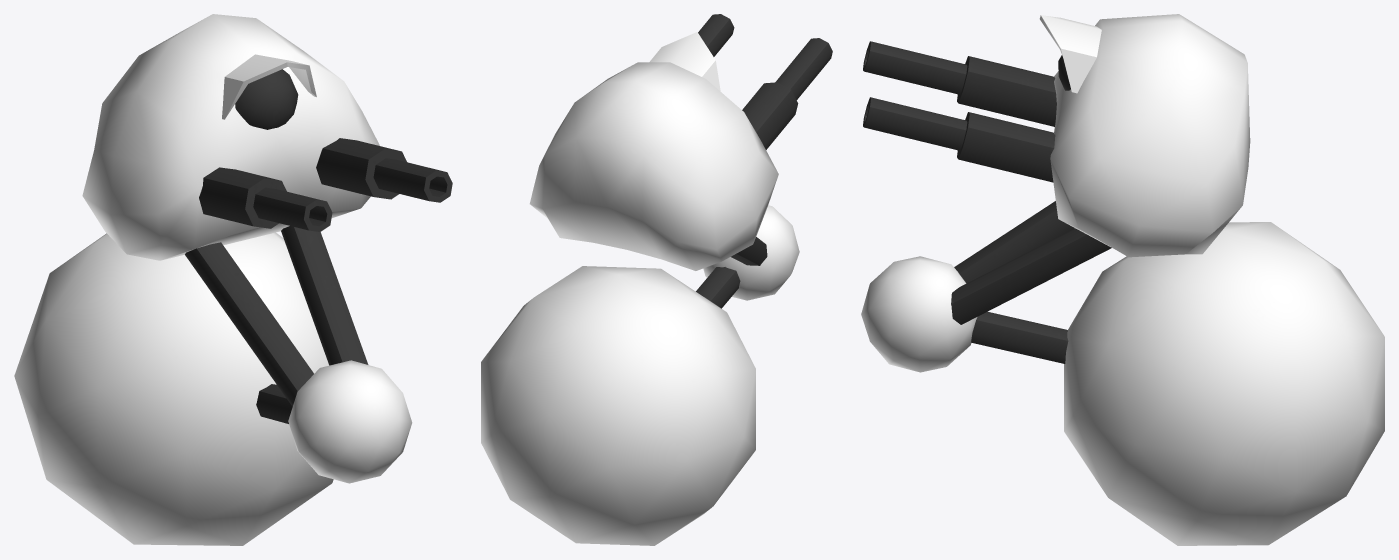
Rendered from Space_Turret.FBX.
3 renders of one model, left to right at view 1: azimuth 30°, elevation 25°; view 2: azimuth 150°, elevation 25°; view 3: azimuth 270°, elevation 25°, orthographic. The views are drawn at different scales.
Parts seen in each view (by area): view 1: Space_Turret; view 2: Space_Turret; view 3: Space_Turret.
Part boxes in pixels (x1=…): Space_Turret: x1=14, y1=14, x2=452, y2=545; Space_Turret: x1=481, y1=14, x2=832, y2=545; Space_Turret: x1=861, y1=14, x2=1384, y2=545.
Size of the model in its own units: 0.2634 by 0.4493 by 0.4087.
